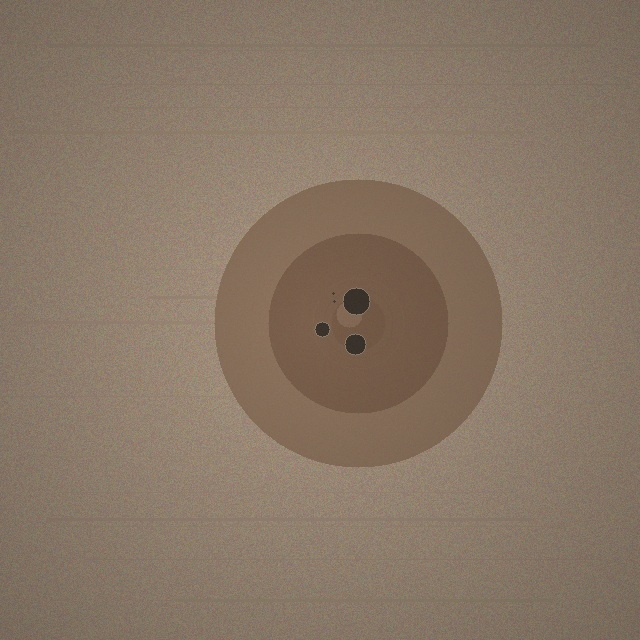shrinkage: (214, 179, 502, 467)
